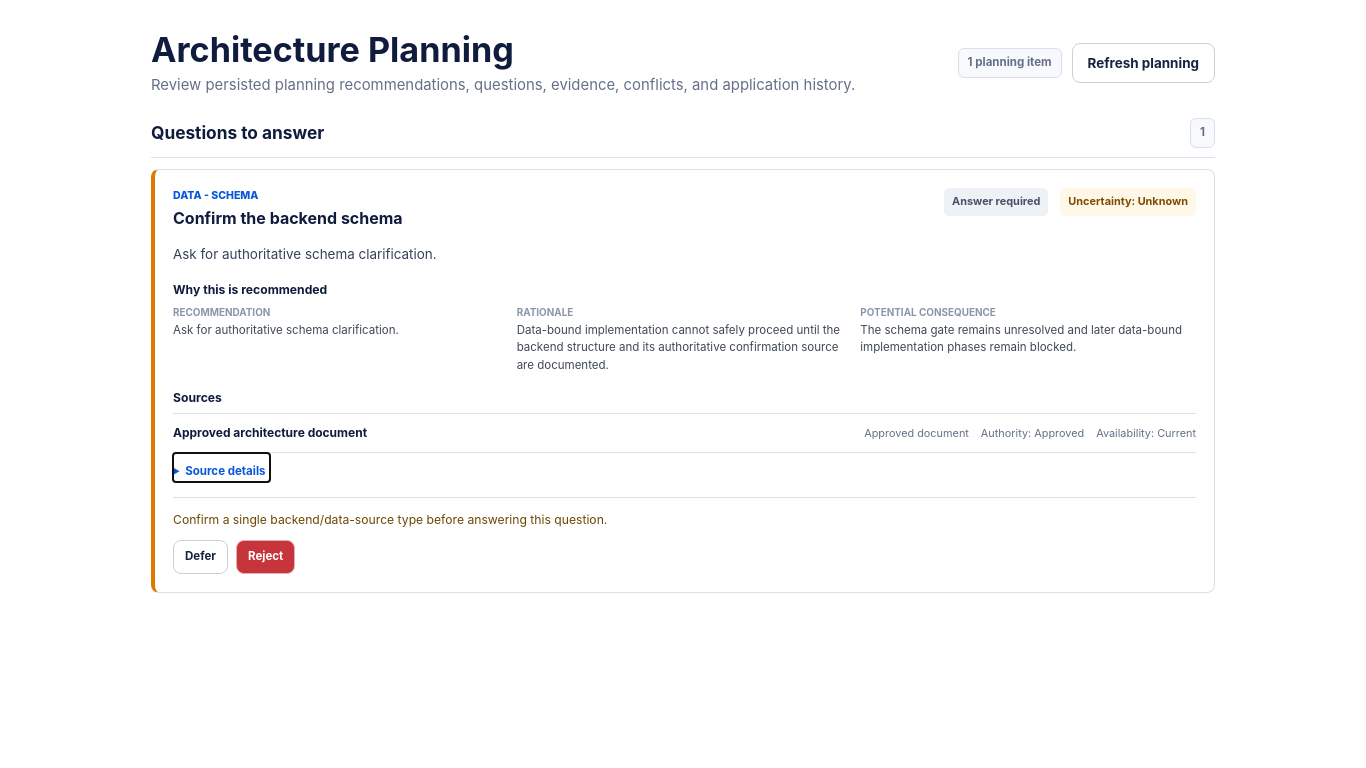
Scenario: PlanningView › renders safe source summaries and keeps optional details collapsed
Check: the text "Approved architecture document" is shown, box x1=173 y1=424 x2=367 y2=442
Check: the text "Approved document" is shown, box x1=864 y1=425 x2=969 y2=441
Click the heading "Source details" at point(225, 471), box x1=185 y1=464 x2=266 y2=478
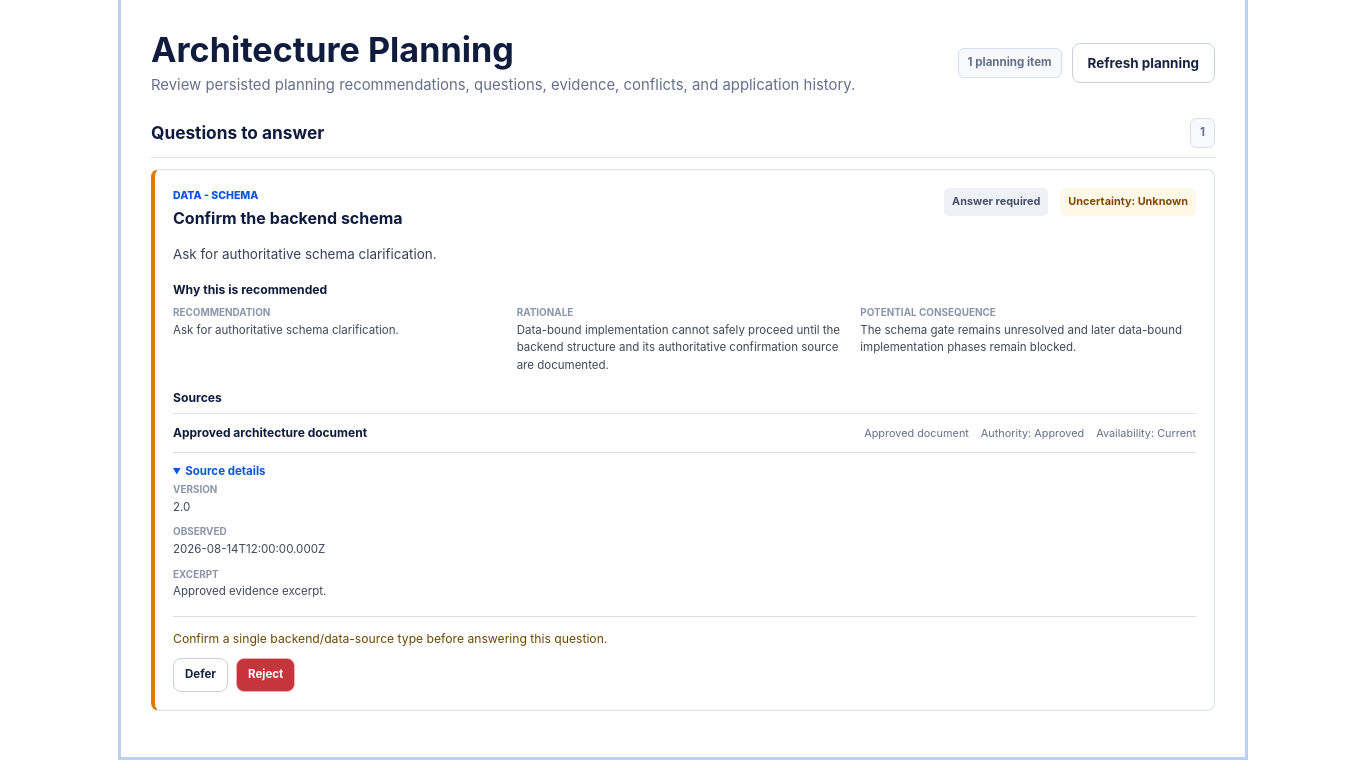
Check: the text "Approved evidence excerpt." is shown, box x1=173 y1=584 x2=326 y2=598
Check: the text "2.0" is shown, box x1=173 y1=500 x2=190 y2=514
